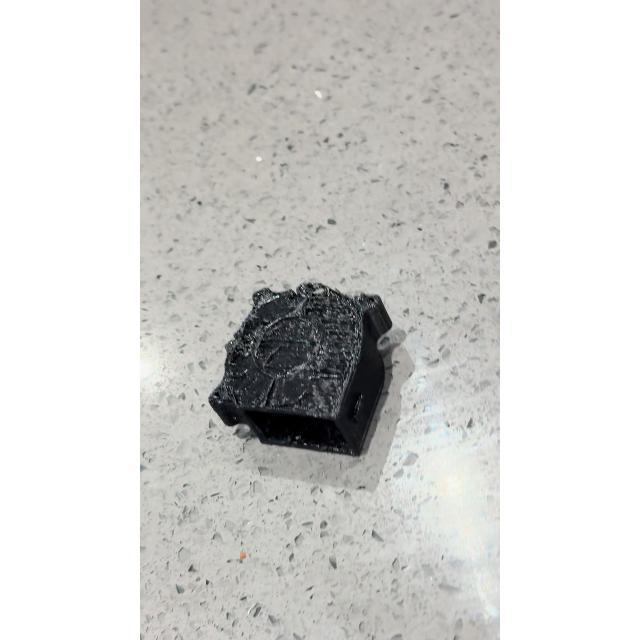Pieza3: (205, 268, 402, 472)
